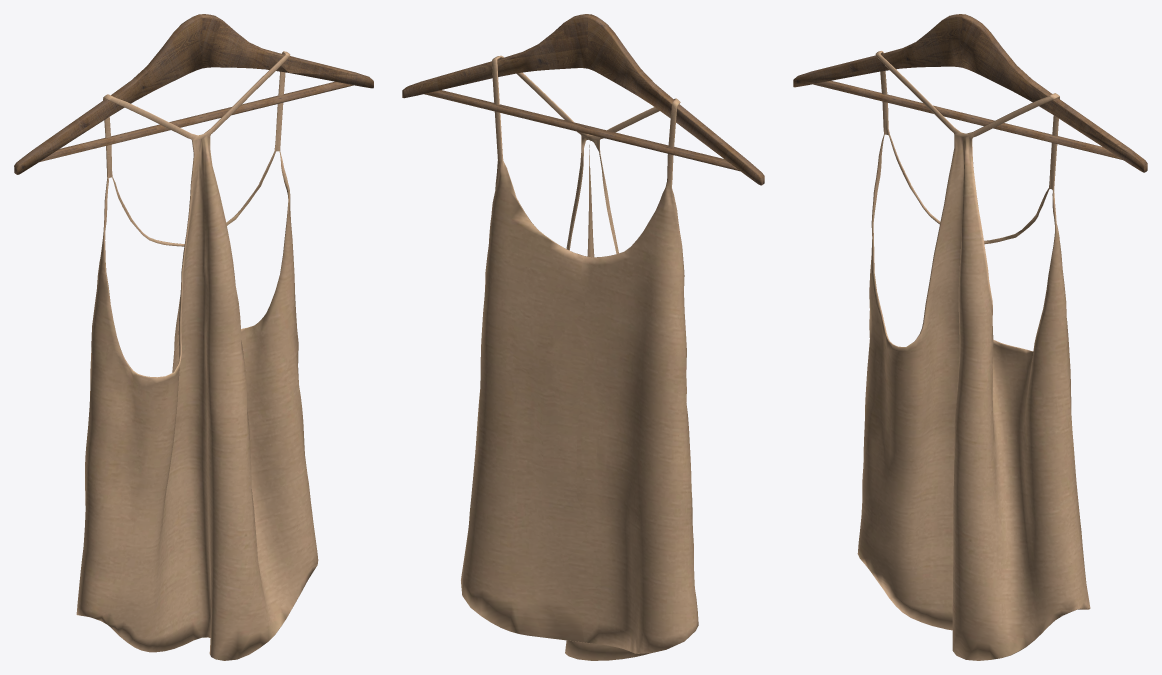
Rendered from hvtop_Clothes_24.glb.
The picture shows the model from 3 angles, left to right: view 1: azimuth 30°, elevation 25°; view 2: azimuth 150°, elevation 25°; view 3: azimuth 330°, elevation 25°; orthographic projection. The views are drawn at different scales.
Visible parts, largest first — view 1: BP_Clothes_24; view 2: BP_Clothes_24; view 3: BP_Clothes_24.
Part boxes in pixels (x1,y1,x2,y2): BP_Clothes_24: (14, 14, 373, 660); BP_Clothes_24: (402, 14, 764, 660); BP_Clothes_24: (793, 14, 1147, 660).
Bounding box in the file's own units: 0.4373 × 0.7447 × 0.093.
2 materials, 2 textured.
